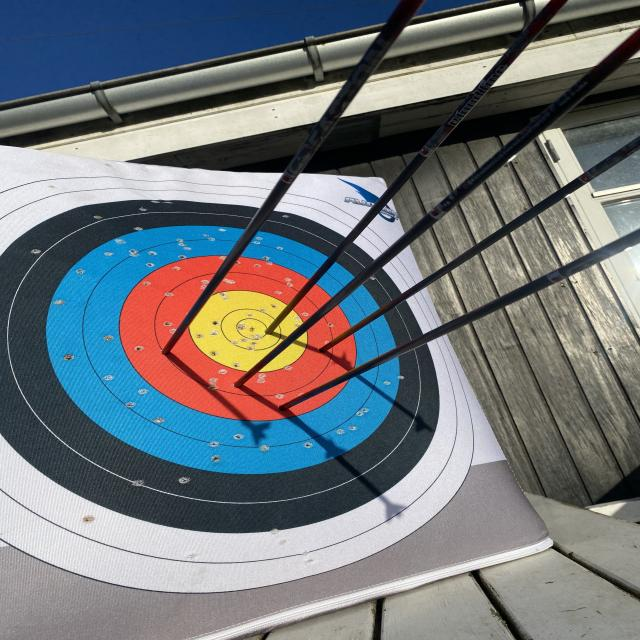Arrow_Red: (151, 341, 200, 365), (223, 374, 260, 395), (278, 391, 302, 417), (318, 339, 334, 364)
Arrow_Yellow: (256, 321, 288, 344)
